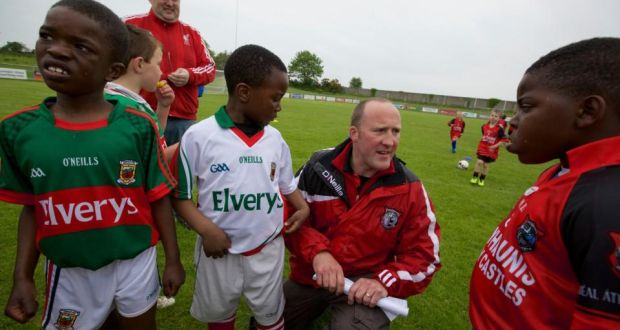player: (5, 3, 170, 323), (475, 37, 617, 327), (185, 37, 293, 320), (301, 80, 430, 316)
